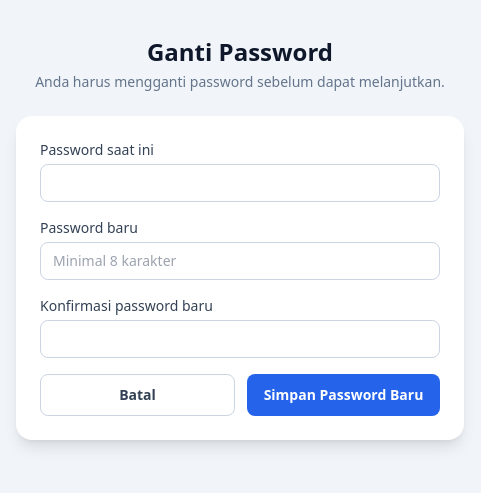
it: ChangePasswordPage (T1.11a) › error backend (password saat ini salah) → error form tampil
Type "Salah123!" into the password field labelled "Password saat ini".
click(240, 183); type("Salah123!")  # box [40,164,440,202]
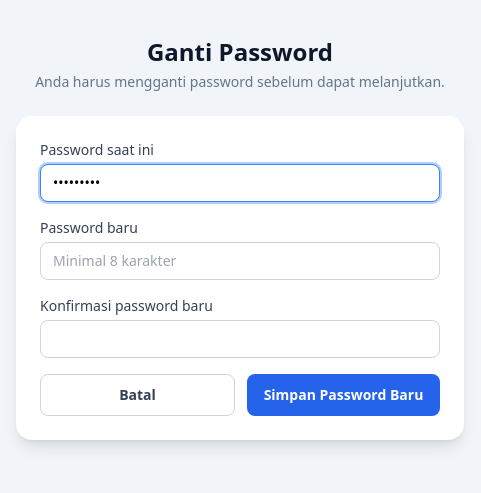
Type "Baru123456!" into the password field labelled "Password baru".
click(240, 261); type("Baru123456!")  # box [40,242,440,280]
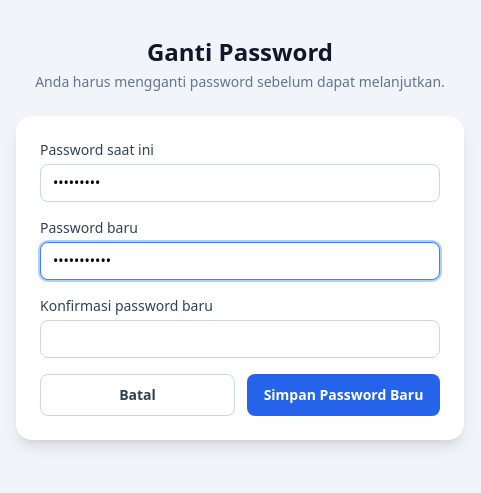
Type "Baru123456!" into the password field labelled "Konfirmasi password baru".
click(240, 339); type("Baru123456!")  # box [40,320,440,358]
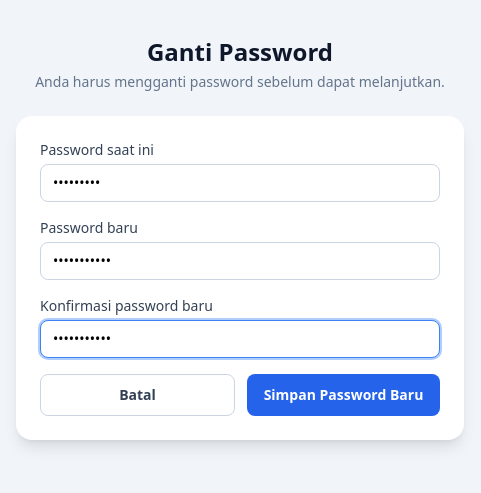
Click the button "Simpan Password Baru".
click(344, 395)  # box [247,374,440,416]
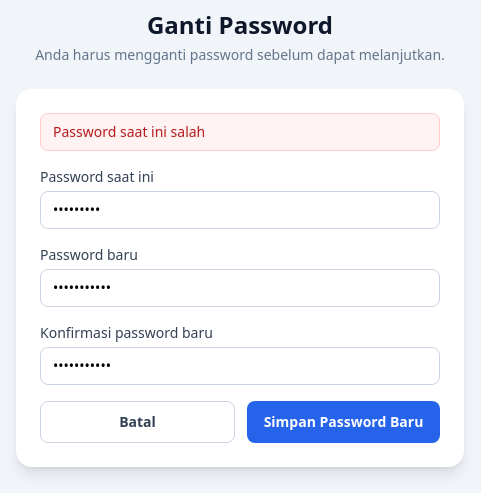
Result: the message reads "Password saat ini salah" at [53,122,205,141]
